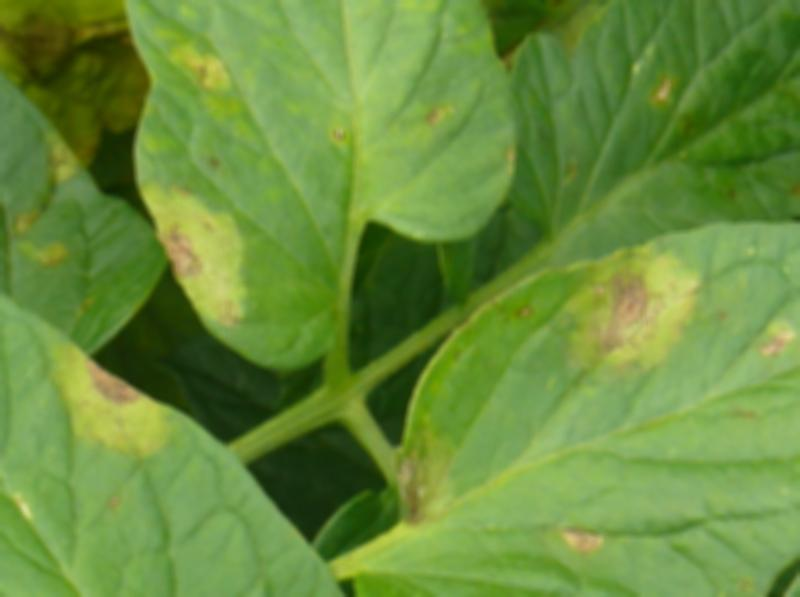Tomato Early blight leaf: (356, 207, 793, 597), (122, 7, 519, 356)
